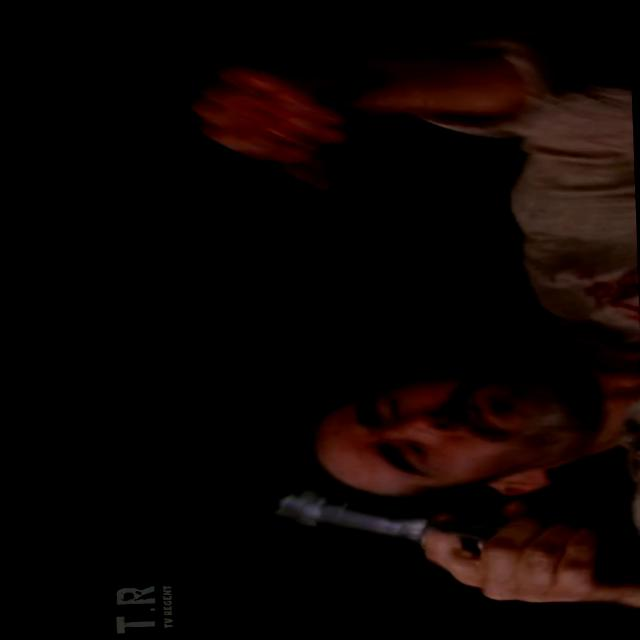handgun: (210, 465, 547, 571)
